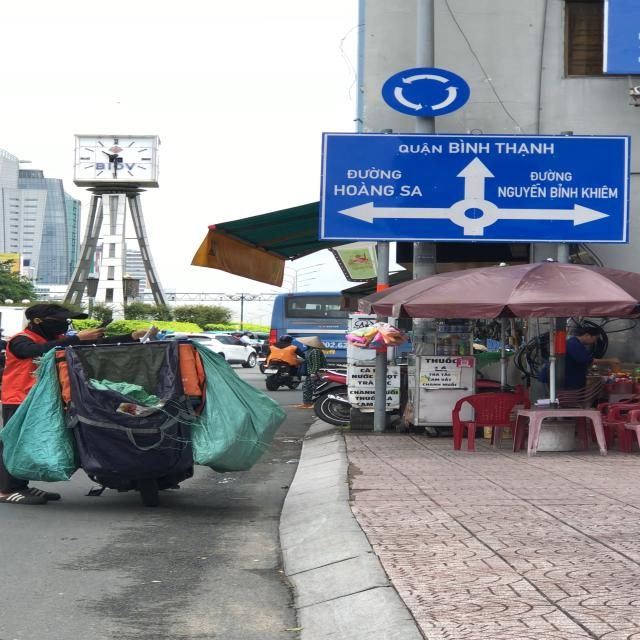Bien bao noi giao nhau chay theo vong xuyen: (377, 64, 479, 118)
